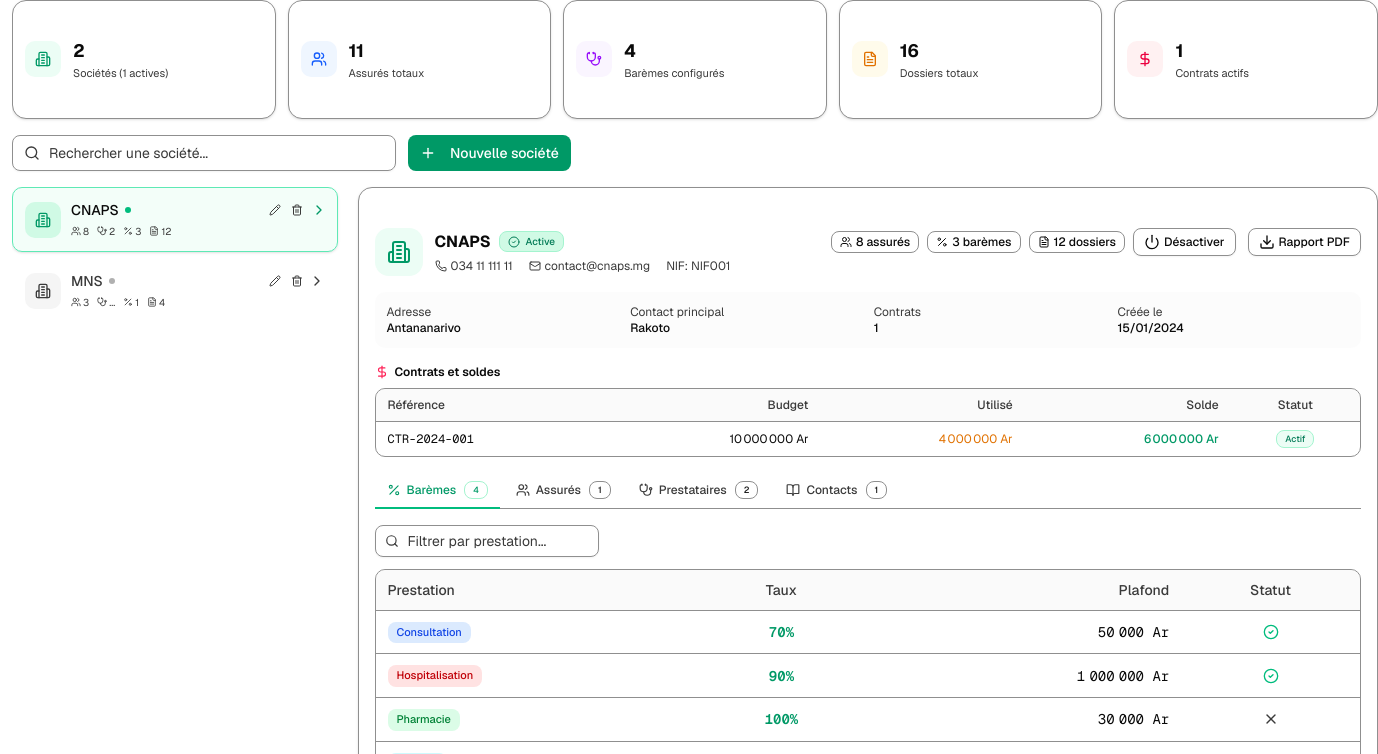
Test: SocietesView — caractérisation › onglet Assurés : affiche les bénéficiaires avec type et matricule
This screenshot has width=1378, height=754.
Click the button "Assurés 1" at (563,490), box [504, 472, 623, 508]
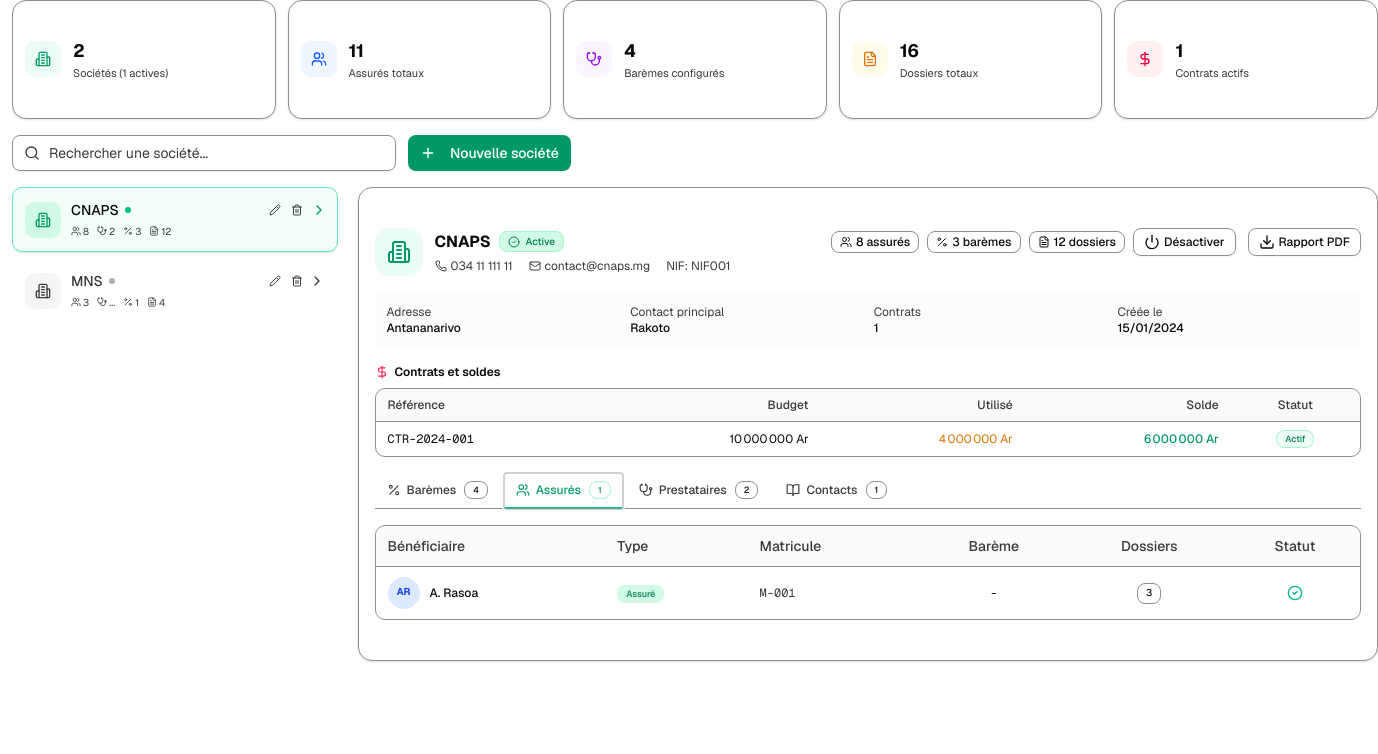
expect the text "A. Rasoa" is shown: met, box [430, 584, 478, 600]
expect the text "Assuré" is shown: met, box [617, 585, 664, 603]
expect the text "M-001" is shown: met, box [748, 566, 919, 618]
